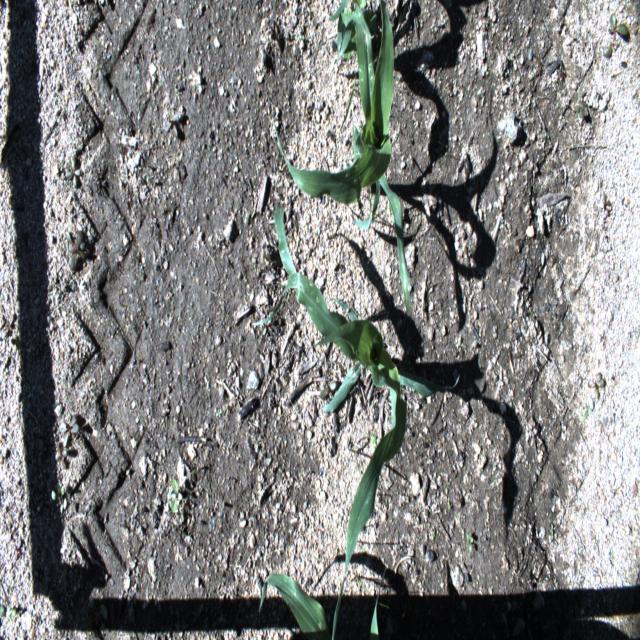crop: (252, 202, 460, 639), (272, 0, 409, 315), (258, 562, 387, 640), (329, 0, 350, 21)
weed: (342, 0, 378, 59), (351, 569, 389, 608), (82, 598, 110, 639), (64, 228, 88, 272), (339, 72, 356, 134), (605, 12, 628, 57), (566, 83, 594, 117), (59, 414, 79, 448), (347, 436, 362, 480), (166, 478, 182, 512), (164, 108, 181, 138), (588, 372, 605, 400), (66, 156, 80, 188), (51, 484, 67, 512), (320, 379, 338, 402), (54, 442, 68, 469), (387, 200, 399, 225), (582, 396, 594, 419), (329, 54, 342, 72), (370, 435, 382, 454), (603, 191, 612, 216), (465, 533, 474, 553), (463, 245, 471, 267), (368, 182, 371, 217), (412, 210, 419, 218), (432, 529, 436, 541), (550, 524, 554, 536), (460, 342, 467, 348), (447, 500, 451, 510)
